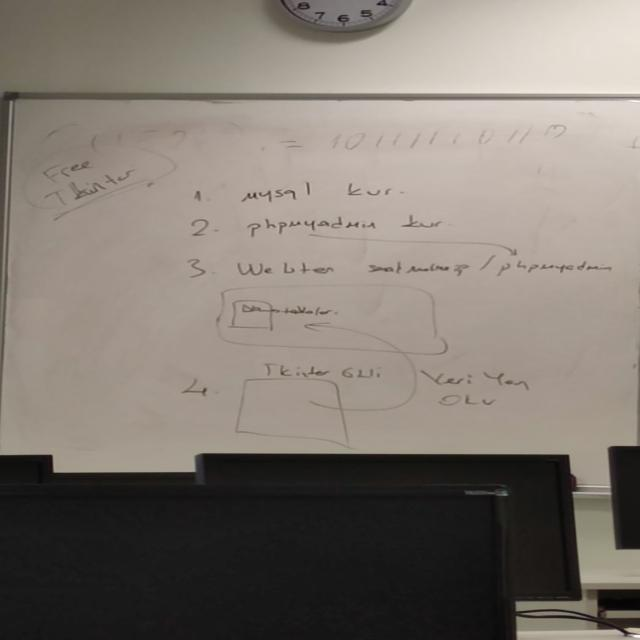text: (253, 352, 534, 415), (220, 250, 619, 281), (222, 175, 432, 205), (230, 213, 453, 241), (34, 156, 148, 203), (232, 292, 339, 326)
